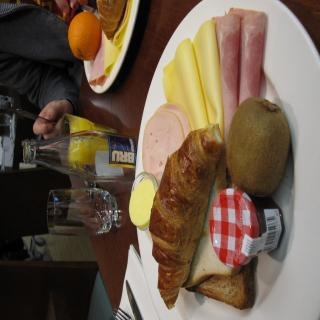Croissant: (151, 117, 232, 292)
Orange: (65, 11, 98, 61)
